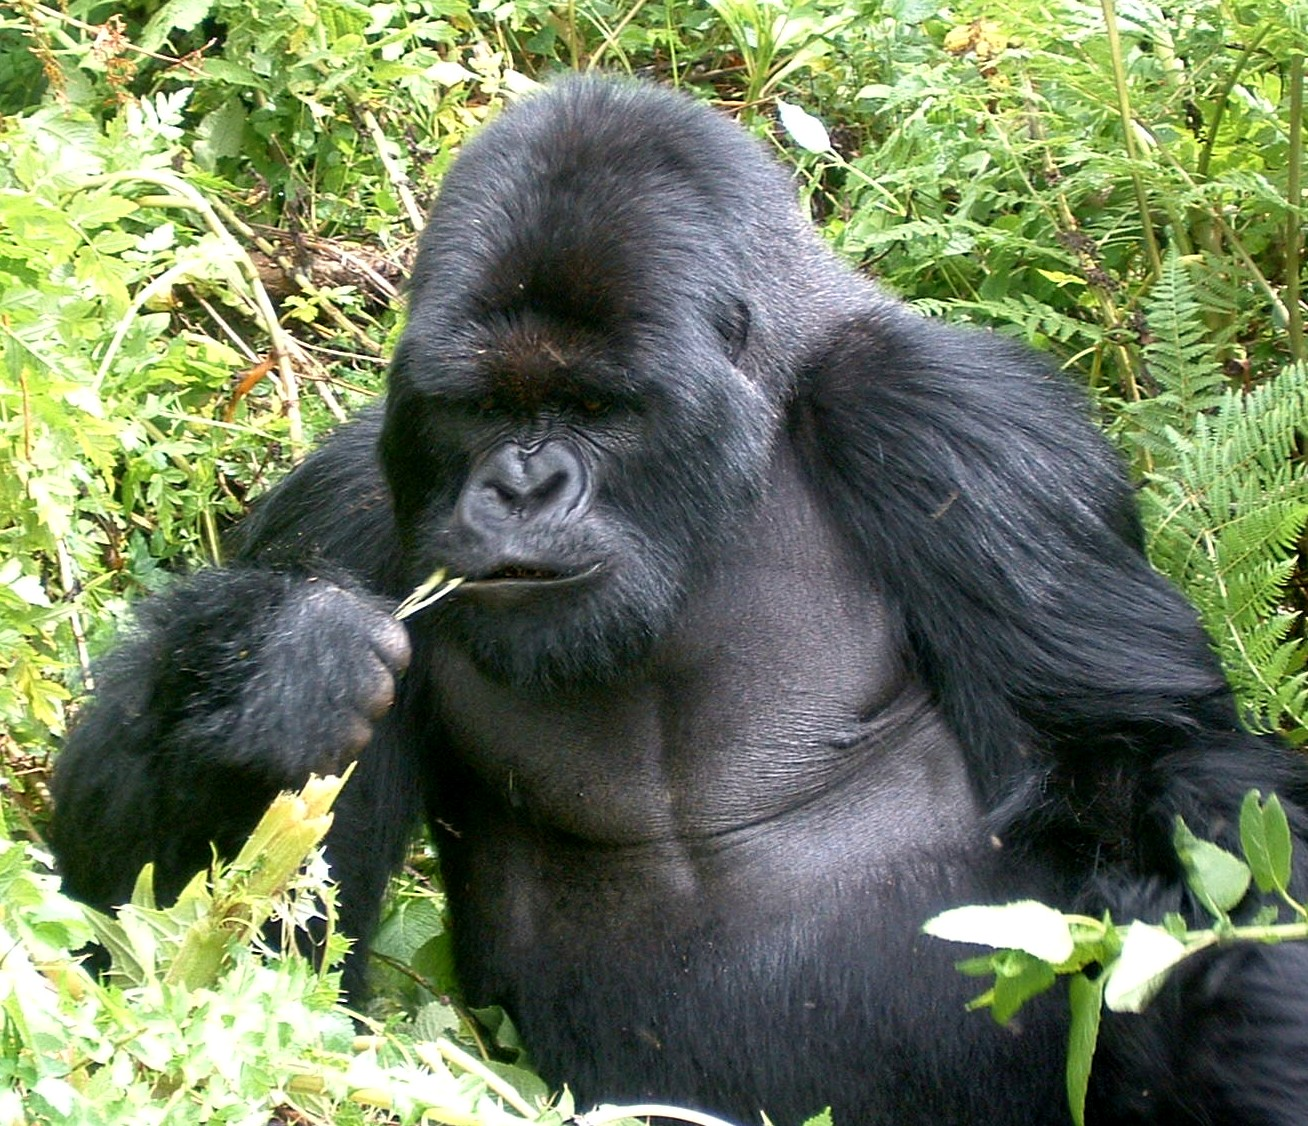Goriila: (102, 67, 1256, 1110)
